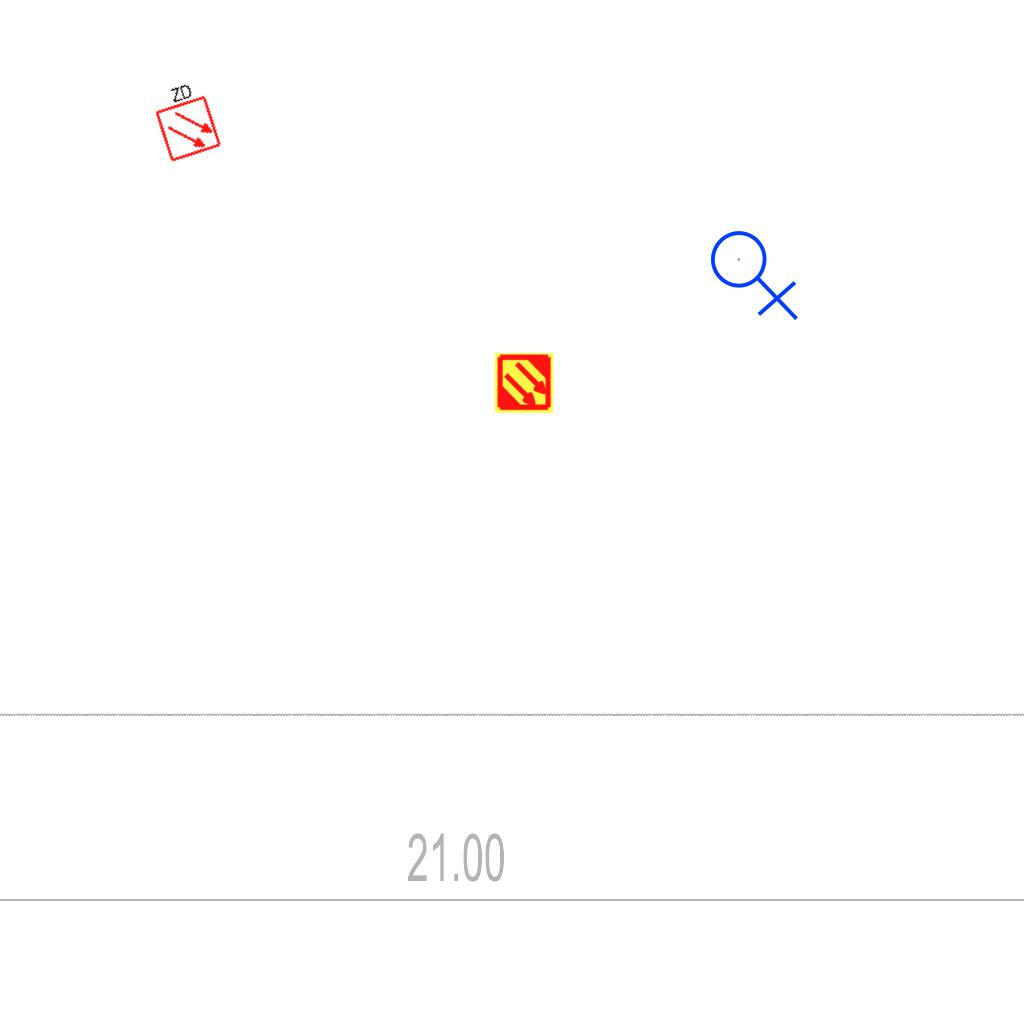ASR_Ansaugrauchmelder: (493, 352, 555, 414)
Elektroanschluss_allgemein_230V_Geraeteanschlussdose_230V: (709, 222, 803, 321)
ZD_Melder_in_Zwischendecke_mit_Revisionsoeffnung_mind_40_x_40_cm: (145, 76, 224, 164)
